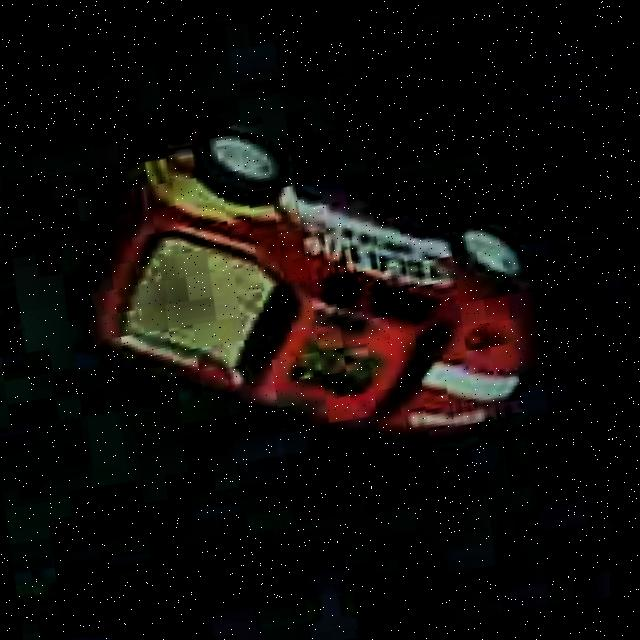car: (45, 63, 581, 512)
